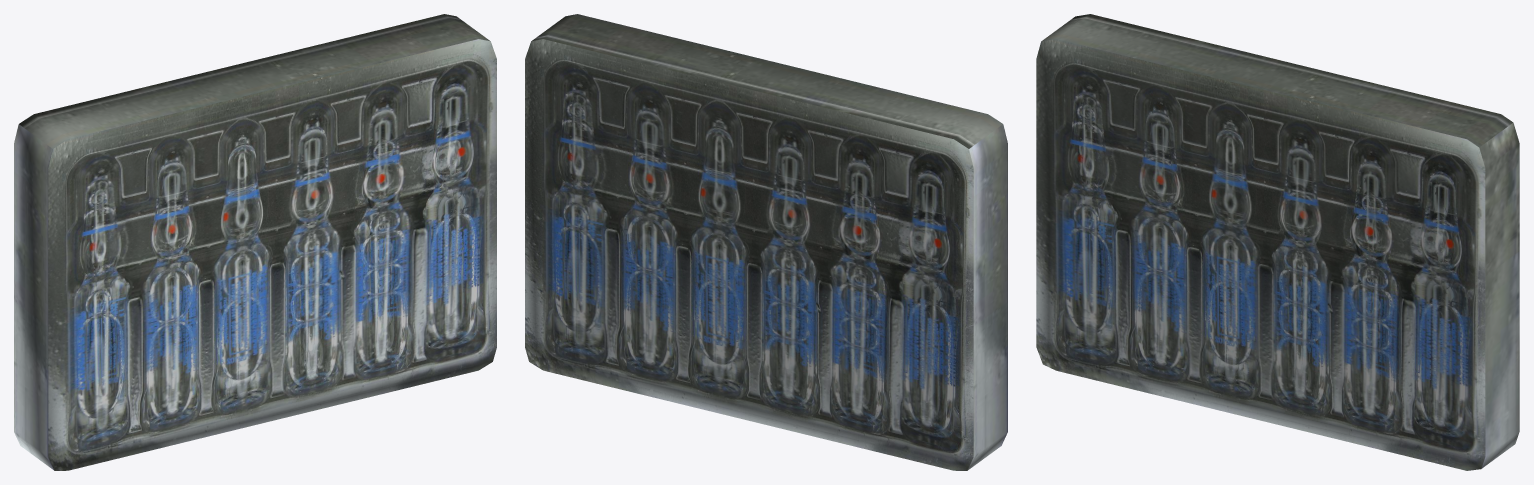
3 views of the same model, side by side, from view 1: azimuth 30°, elevation 25°; view 2: azimuth 150°, elevation 25°; view 3: azimuth 330°, elevation 25° (orthographic).
Visible parts, largest first — view 1: 平面; view 2: 平面; view 3: 平面.
Part boxes in pixels (bbox=[...]): 平面: bbox=[14, 14, 496, 470]; 平面: bbox=[525, 14, 1007, 470]; 平面: bbox=[1036, 14, 1519, 470].
Bounding box in the file's own units: 893 × 630 × 118.
1 material, 1 textured.
